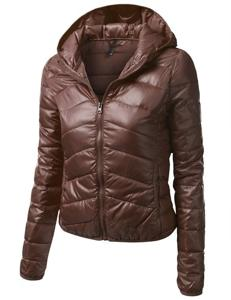C_jacket: (15, 1, 209, 298)
